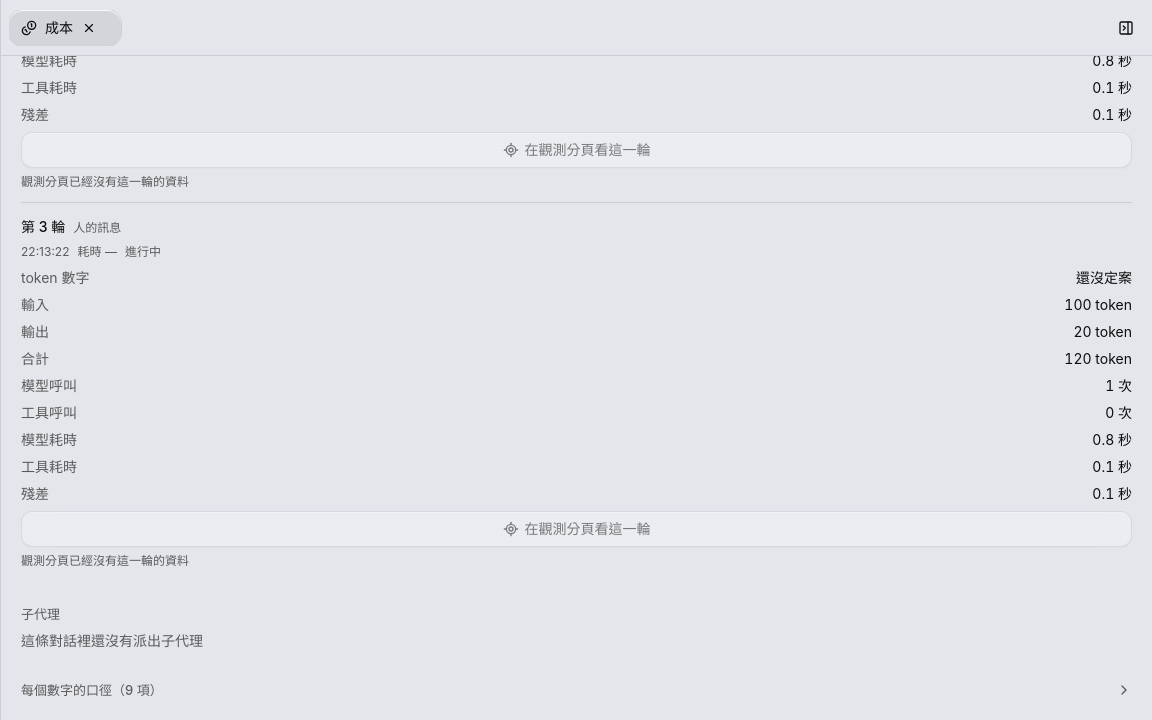
Scenario: 成本分頁：有用量投影 › 每一輪各自標準數、下限、還沒定案，tokensProven 的口徑句列得出來（#1571 N1201）
(page scrolled)
Click the button "每個數字的口徑（9 項）".
click(73, 690)  # box [13,672,1140,708]
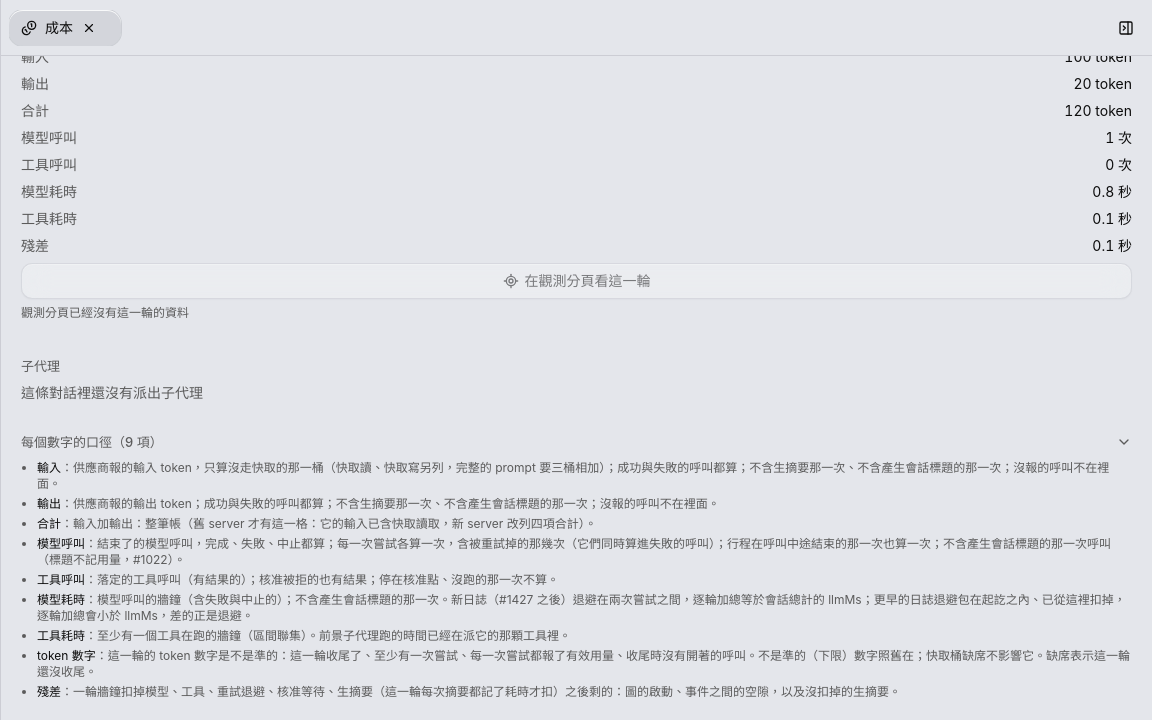
Result: the list item that starts with "token 數字" shows "這一輪的 token 數字是不是準的：這一輪收尾了、至少有一次嘗試、每一次嘗試都報了有效用量、收尾時沒有開著的呼叫。不是準的（下限）數字照舊在；快取桶缺席不影響它。缺席表示這一輪還沒收尾。" at [37,648,1130,679]
